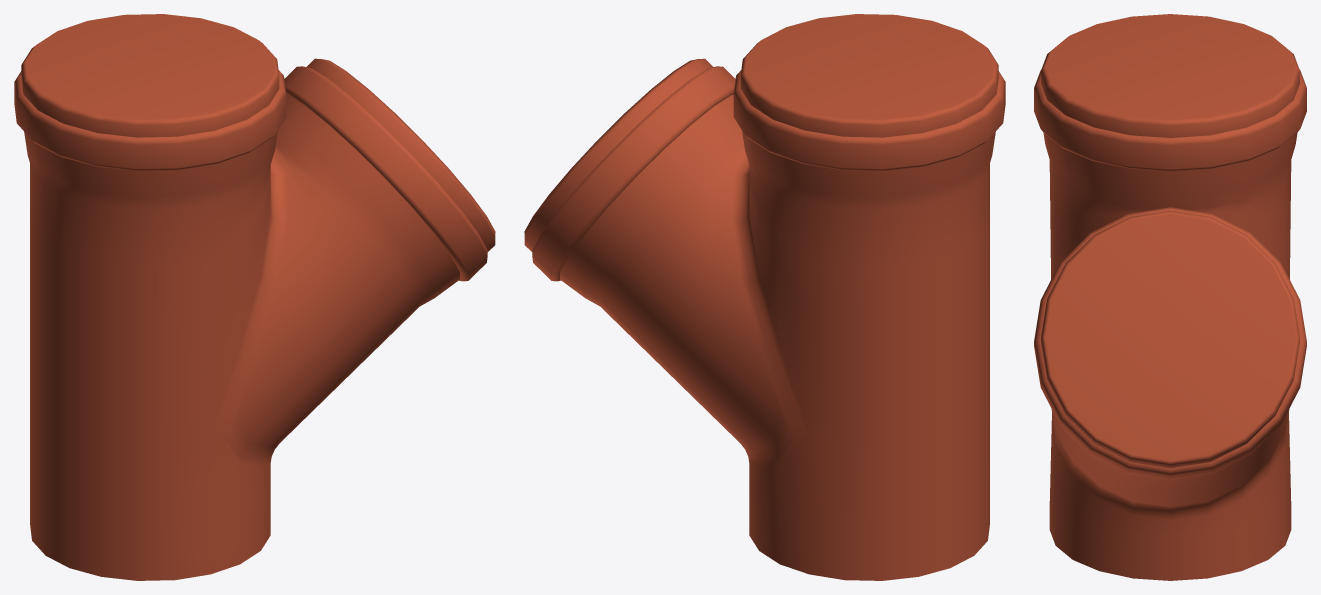
File: SM_Tuyau_C.fbx
3 renders of one model, left to right at view 1: azimuth 30°, elevation 25°; view 2: azimuth 150°, elevation 25°; view 3: azimuth 270°, elevation 25°, orthographic.
Visible parts, largest first — view 1: Tuyau_C; view 2: Tuyau_C; view 3: Tuyau_C.
Part boxes in pixels (x1,y1,x2,y2): Tuyau_C: [14, 14, 495, 580]; Tuyau_C: [524, 14, 1005, 580]; Tuyau_C: [1034, 14, 1306, 580].
Bounding box in the file's own units: 26.16 × 26.43 × 14.12.
